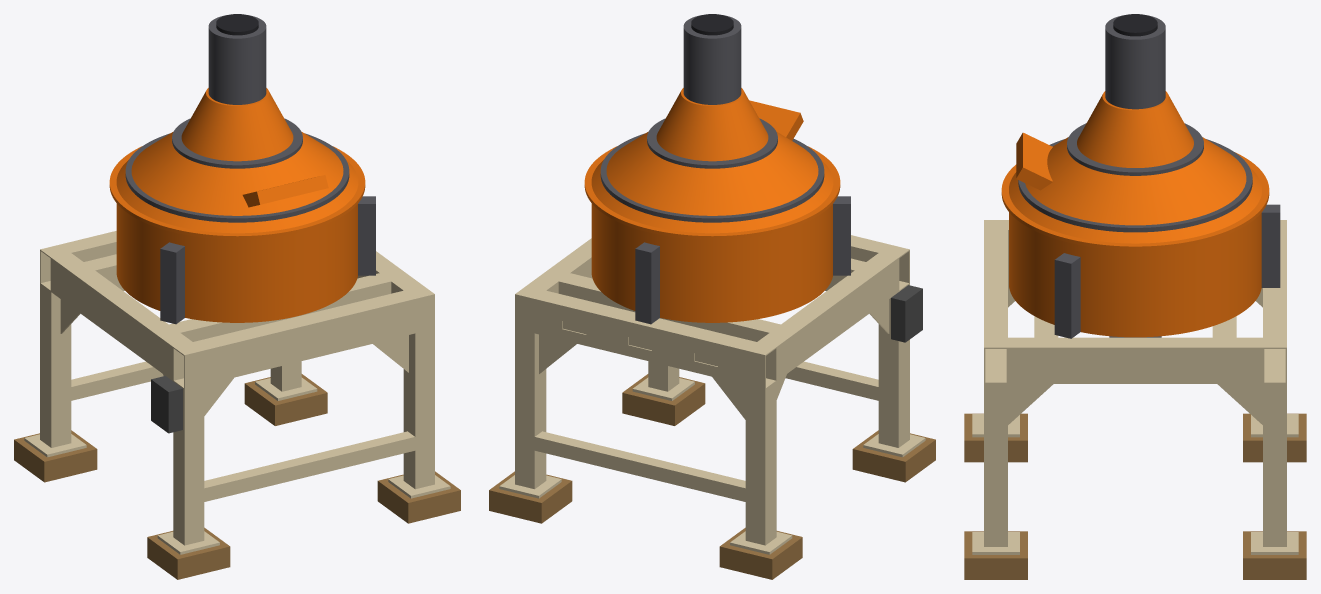
Rendered from planetary-mixer-on-stand.glb.
The picture shows the model from 3 angles, left to right: view 1: azimuth 30°, elevation 25°; view 2: azimuth 150°, elevation 25°; view 3: azimuth 270°, elevation 25°; orthographic projection. The views are drawn at different scales.
Parts seen in each view (by area): view 1: lower_tie_-1_3613c0, gearbox_f5c577, water_ring_a26e5a, timber_block_3_0e67bb, junction_box_2139f2, fan_cap_fb2e30; view 2: lower_tie_-1_3613c0, gearbox_f5c577, water_ring_a26e5a, timber_block_3_0e67bb, junction_box_2139f2, fan_cap_fb2e30; view 3: gearbox_f5c577, lower_tie_-1_3613c0, water_ring_a26e5a, timber_block_3_0e67bb, fan_cap_fb2e30.
Part boxes in pixels (x1,y1,x2,y2): lower_tie_-1_3613c0: (24,231,450,554); gearbox_f5c577: (109,88,365,322); water_ring_a26e5a: (125,15,375,324); timber_block_3_0e67bb: (14,374,460,579); junction_box_2139f2: (151,376,182,433); fan_cap_fb2e30: (216,14,258,35); lower_tie_-1_3613c0: (499,235,925,554); gearbox_f5c577: (584,88,840,322); water_ring_a26e5a: (600,15,850,324); timber_block_3_0e67bb: (489,374,935,579); junction_box_2139f2: (891,285,922,342); fan_cap_fb2e30: (691,14,733,35); gearbox_f5c577: (1001,91,1269,337); lower_tie_-1_3613c0: (972,220,1298,554); water_ring_a26e5a: (1018,15,1280,338); timber_block_3_0e67bb: (964,413,1306,579); fan_cap_fb2e30: (1113,14,1157,36).
Size of the model in its own units: 2.15 by 3.35 by 2.15.
